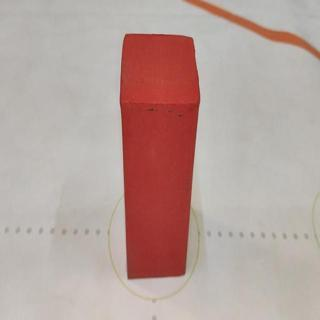redbox: (120, 31, 201, 282)
